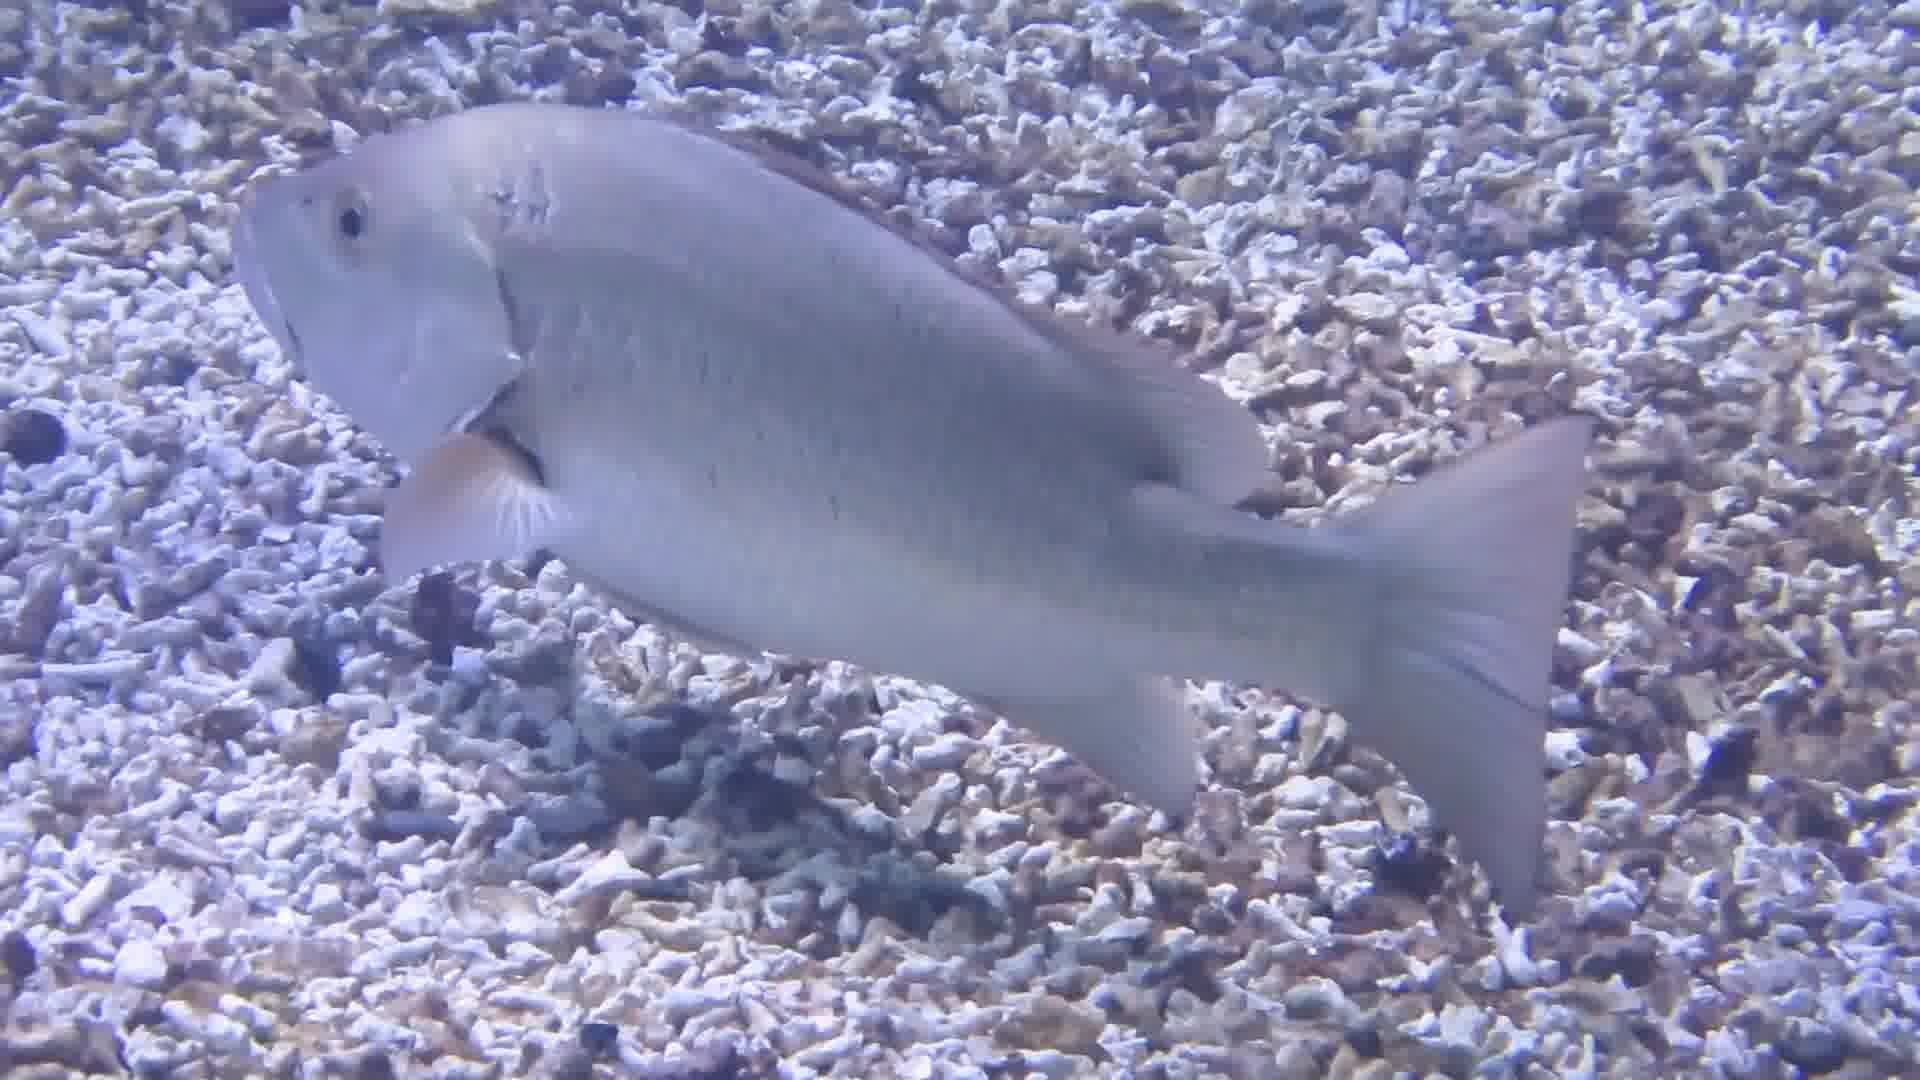Lutjanus argentimaculatus: (222, 109, 1356, 787)
